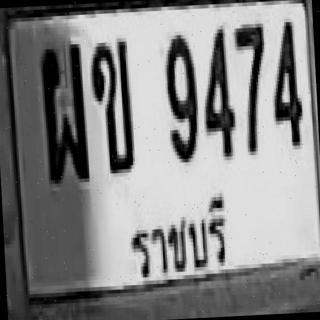A02: (88, 36, 134, 172)
A28: (38, 40, 88, 181)
N04: (199, 25, 235, 158), (268, 18, 302, 146)
N07: (232, 20, 268, 152)
N09: (162, 31, 200, 159)
P52: (120, 187, 244, 290)
